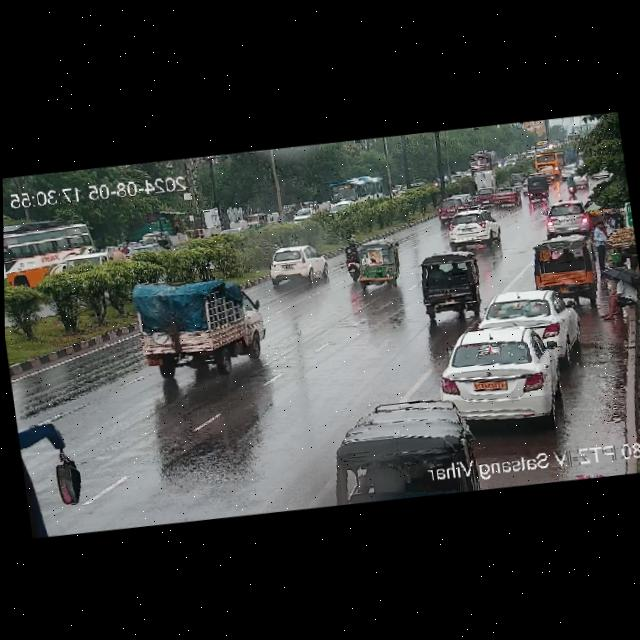bus: (3, 217, 97, 294), (326, 170, 389, 212), (531, 149, 566, 175), (565, 128, 582, 143)
car: (444, 319, 569, 433), (475, 278, 586, 369), (528, 234, 601, 312), (418, 248, 485, 321), (261, 239, 334, 295), (448, 199, 502, 252), (357, 238, 403, 290), (542, 196, 590, 238), (433, 194, 470, 222), (140, 227, 174, 251), (495, 182, 522, 208), (525, 174, 549, 202), (477, 187, 497, 205), (541, 166, 556, 181)
motorcycle: (332, 231, 363, 286), (566, 175, 578, 195)
person: (595, 265, 640, 323), (590, 218, 610, 264), (603, 207, 617, 233)
truck: (134, 266, 274, 385), (466, 148, 499, 173)
